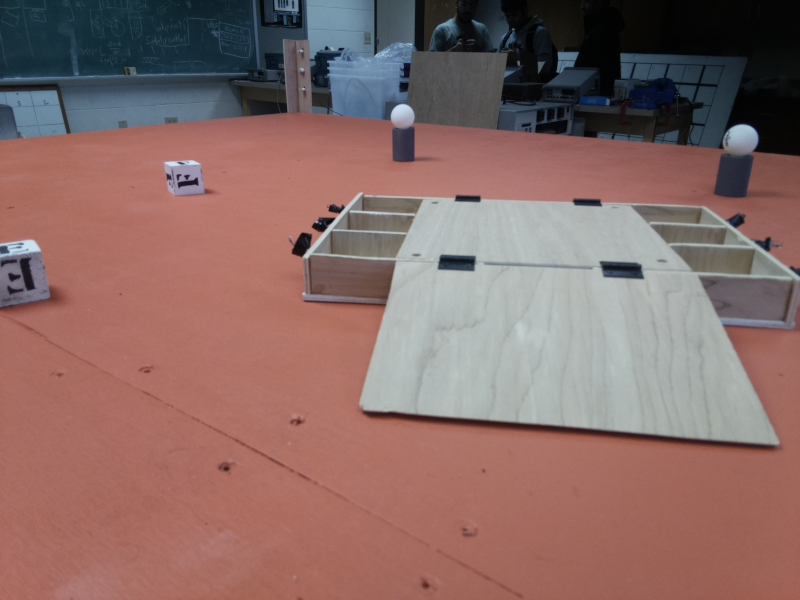blockE: (1, 239, 53, 311)
blockF: (165, 157, 206, 199)
corner: (283, 40, 313, 118)
obstacle: (713, 122, 762, 194), (389, 105, 418, 161)
side: (276, 196, 406, 300), (693, 205, 800, 321)
slope: (373, 255, 694, 438)
